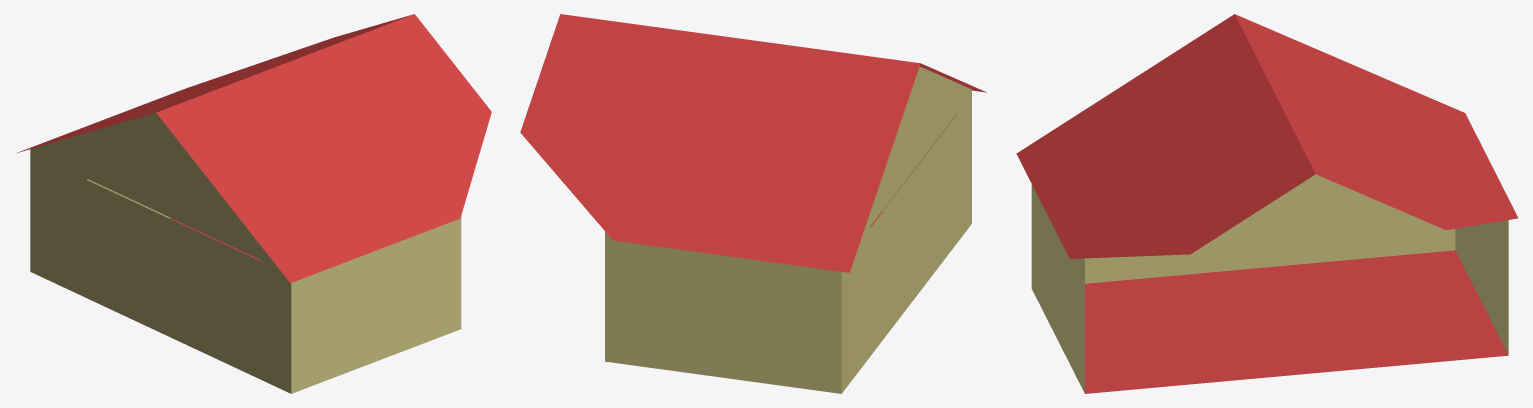
3 views of the same model, side by side, from view 1: azimuth 30°, elevation 25°; view 2: azimuth 150°, elevation 25°; view 3: azimuth 270°, elevation 25° (orthographic). The views are drawn at different scales.
Bounding box in the file's own units: 26.57 × 29.29 × 16.14.
